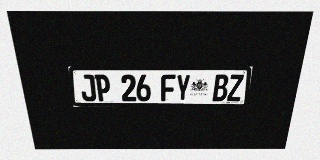2: (121, 74, 136, 101)
6: (136, 74, 151, 101)
B: (212, 74, 229, 101)
F: (161, 74, 176, 101)
J: (79, 74, 96, 101)
P: (94, 74, 111, 101)
Y: (175, 74, 191, 101)
Z: (227, 74, 244, 101)
